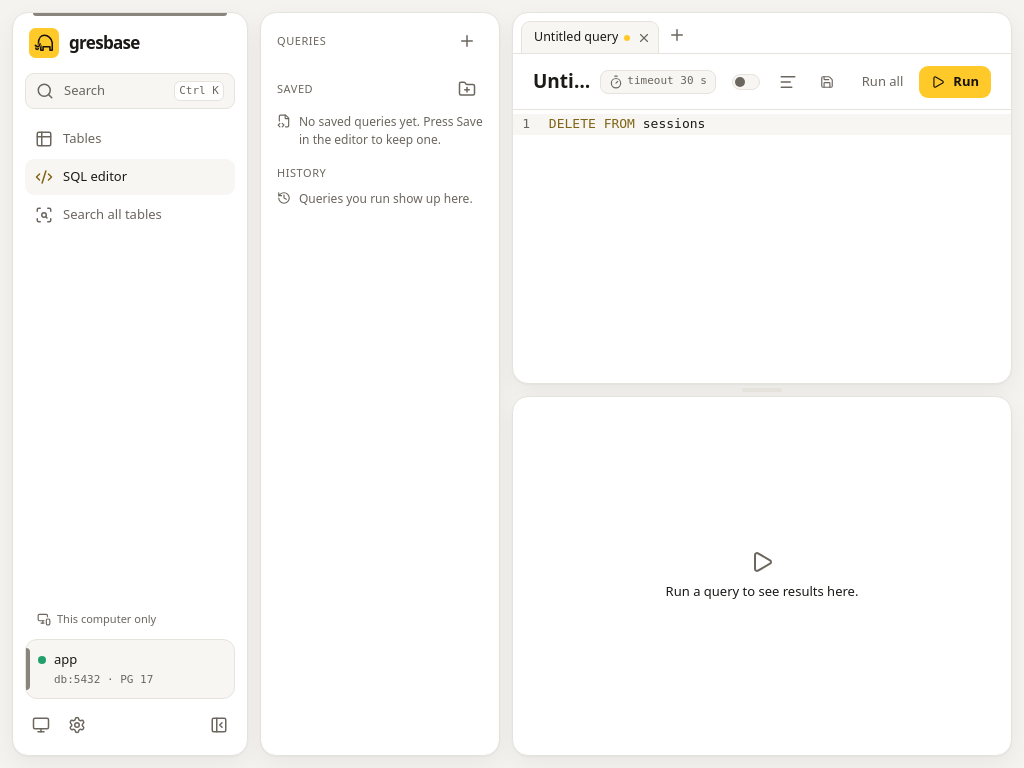
Test: transaction mode › opens a transaction, then commits after showing the destructive statements
Click the switch named "Transaction mode" at (746, 82), box [724,66,768,98]
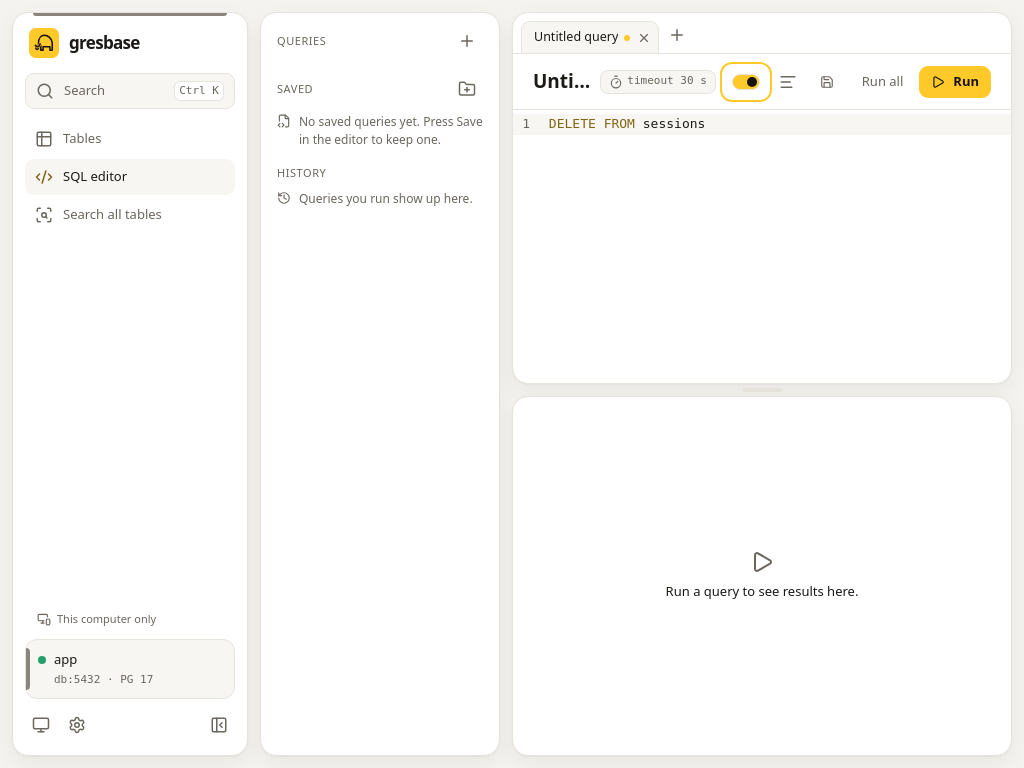
Click the button "Run" at (955, 82), box [919,66,991,98]
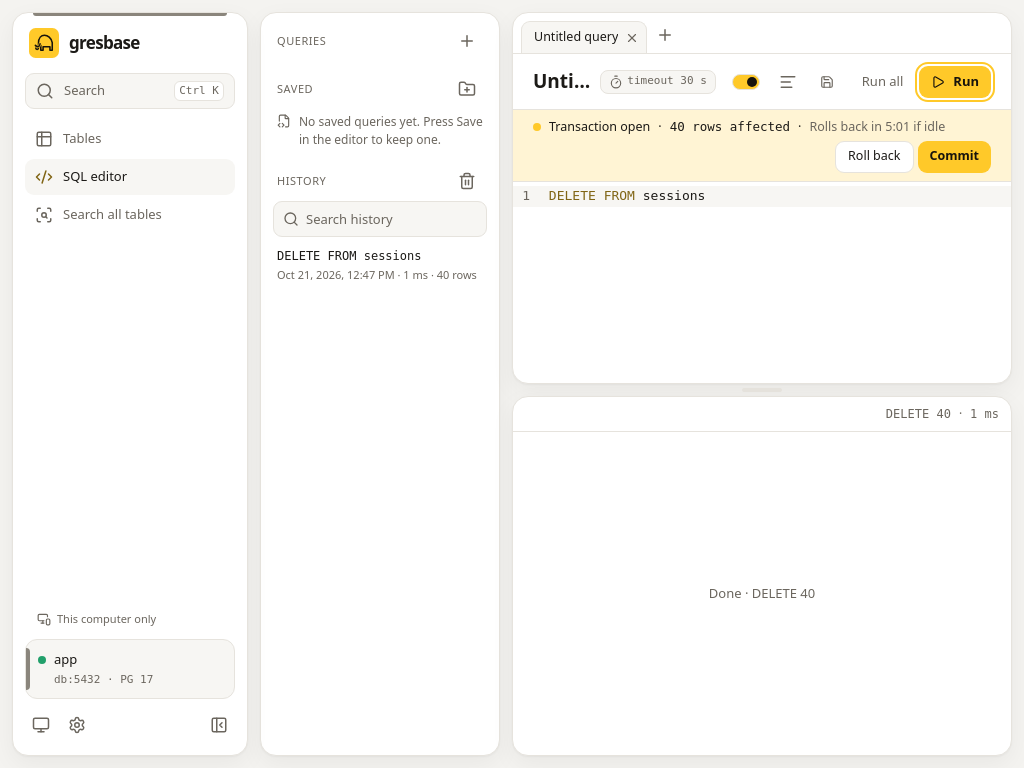
Result: the message "Transaction open" shows "Rolls back in" at [809,118,945,135]
Click the button "Commit" at (954, 157), box [918,141,991,173]
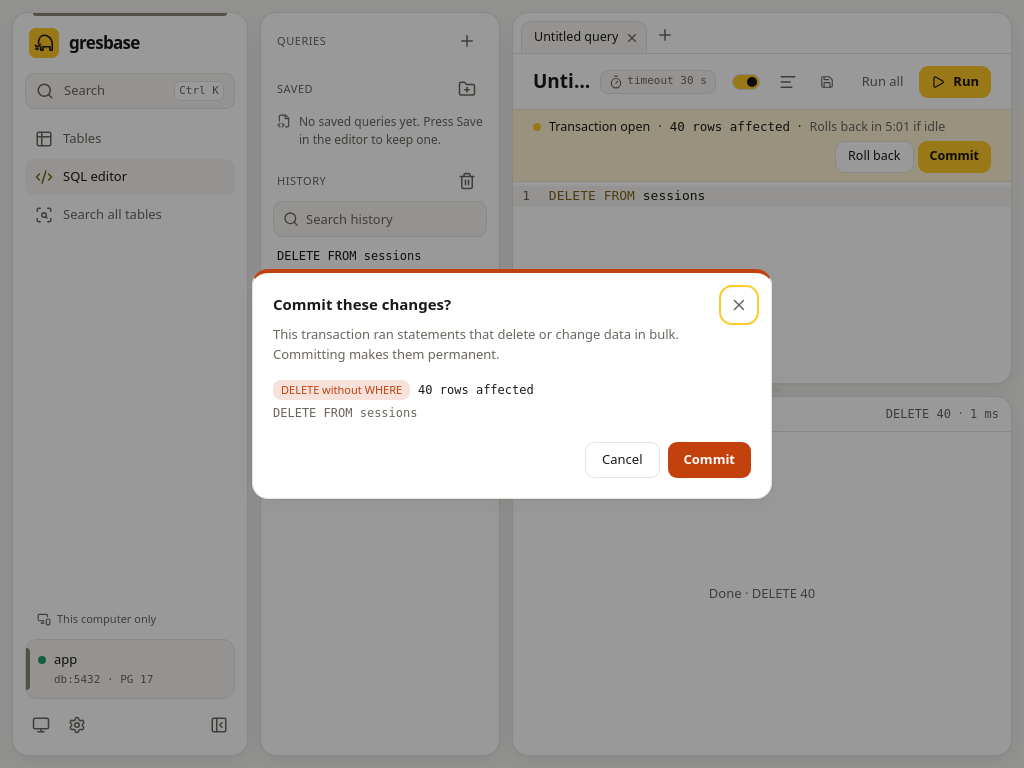
Result: the text "40 rows affected" is shown at [418,381,534,399]
Click the button "Commit" at (709, 460), box [668,442,751,478]
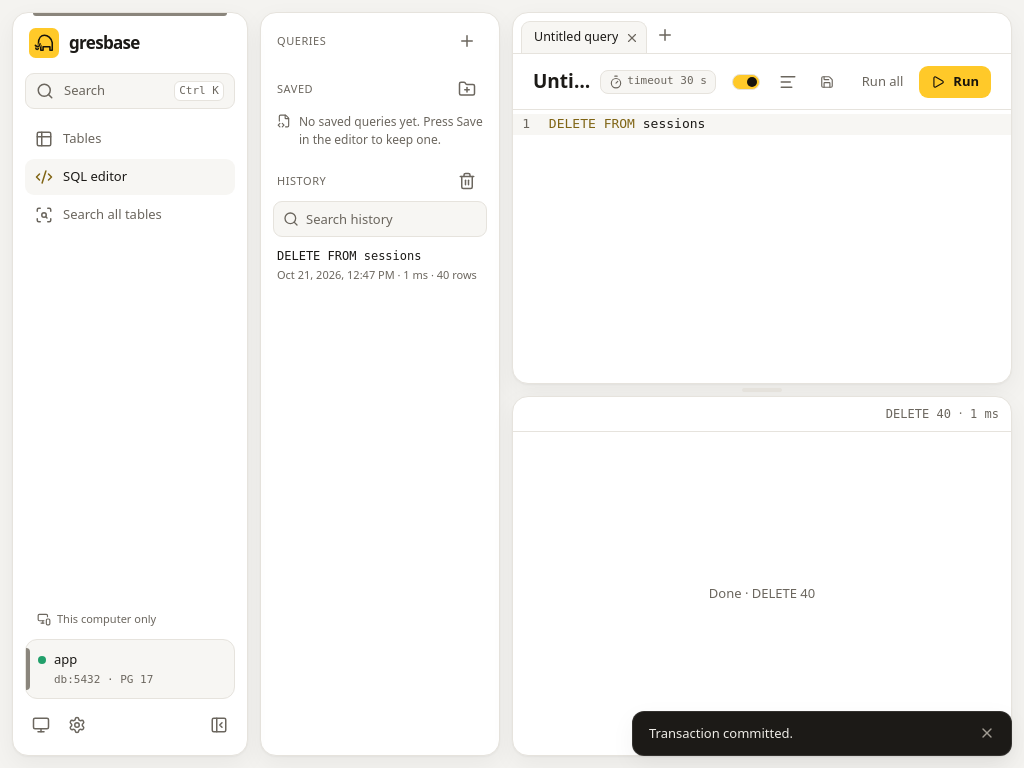
Result: the text "Transaction committed." is shown at [649,724,793,742]
Result: the text "Transaction open" is gone
